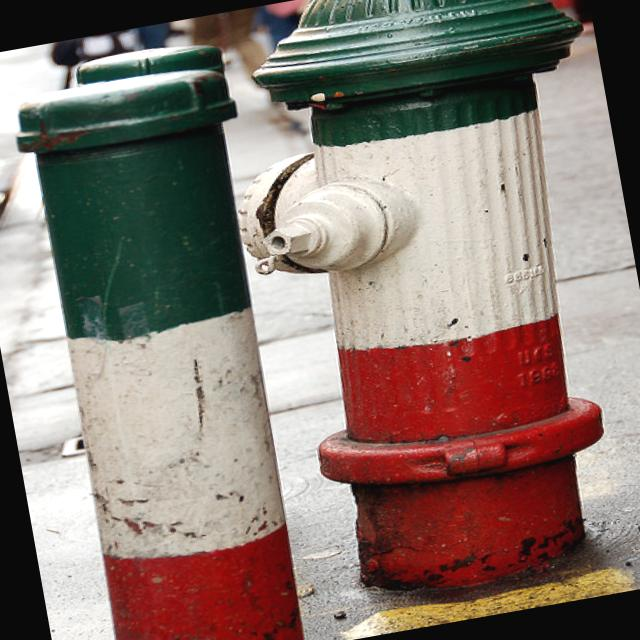Vehicle: (0, 52, 27, 243)
